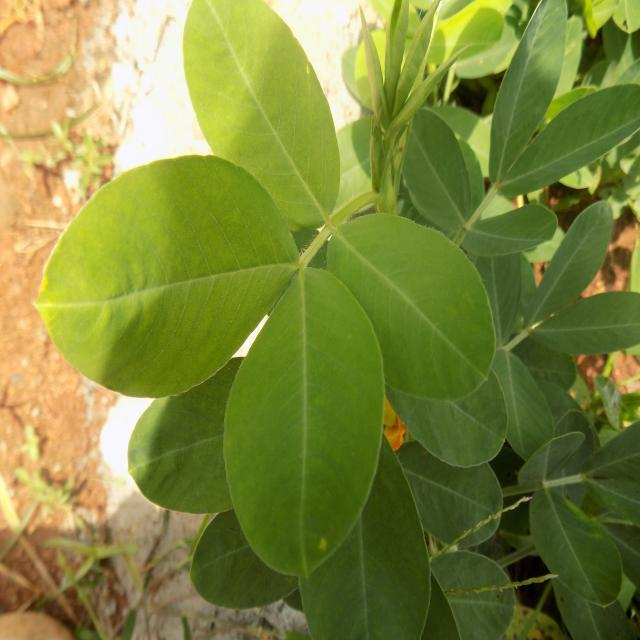Ground nut_healthy: (38, 148, 301, 402), (224, 260, 383, 567), (321, 202, 496, 408), (180, 0, 338, 227)
